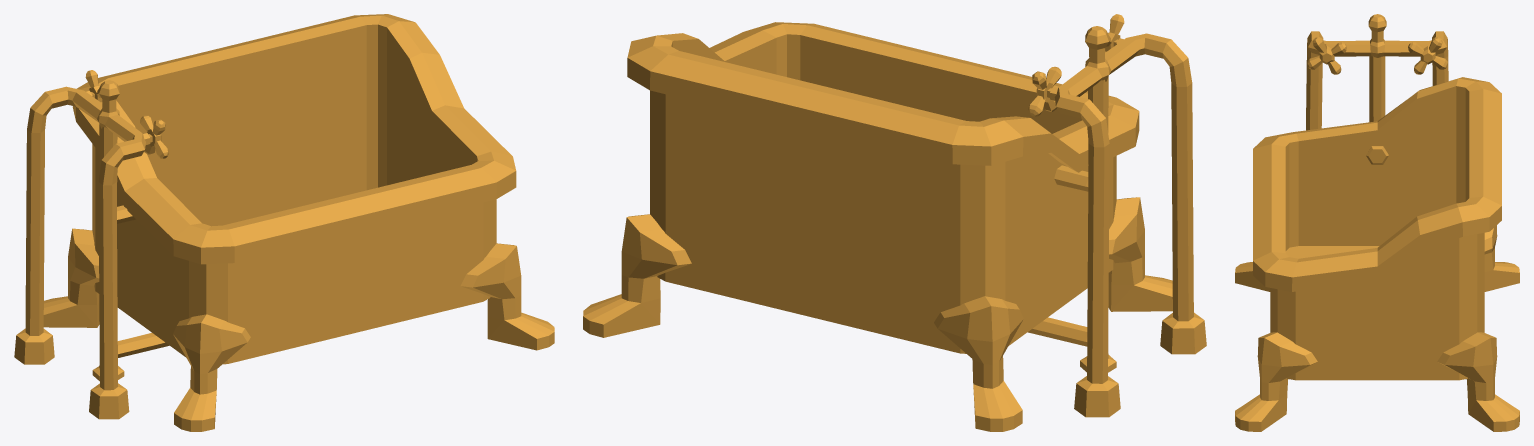
Rendered from SM_Sitz_Bath_Victorian.fbx.
3 views of the same model, side by side, from view 1: azimuth 30°, elevation 25°; view 2: azimuth 150°, elevation 25°; view 3: azimuth 270°, elevation 25° (orthographic). The views are drawn at different scales.
Visible parts, largest first — view 1: sitz-bath-victorian; view 2: sitz-bath-victorian; view 3: sitz-bath-victorian.
Boxes of the visible parts, x1,y1,x2,y2 form: sitz-bath-victorian: [14, 14, 554, 431]; sitz-bath-victorian: [583, 14, 1206, 431]; sitz-bath-victorian: [1235, 14, 1519, 431].
Size of the model in its own units: 1 by 0.6598 by 0.663.
